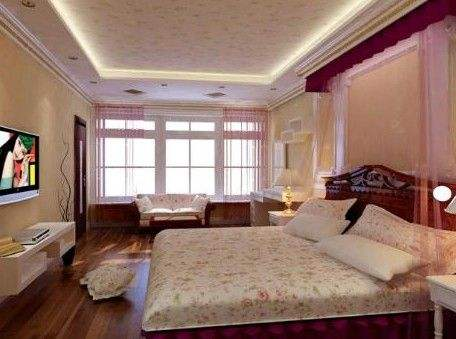床: (142, 219, 440, 332)
枕头: (293, 201, 453, 278), (83, 264, 135, 301)
灯: (269, 172, 309, 218), (430, 186, 454, 209)
